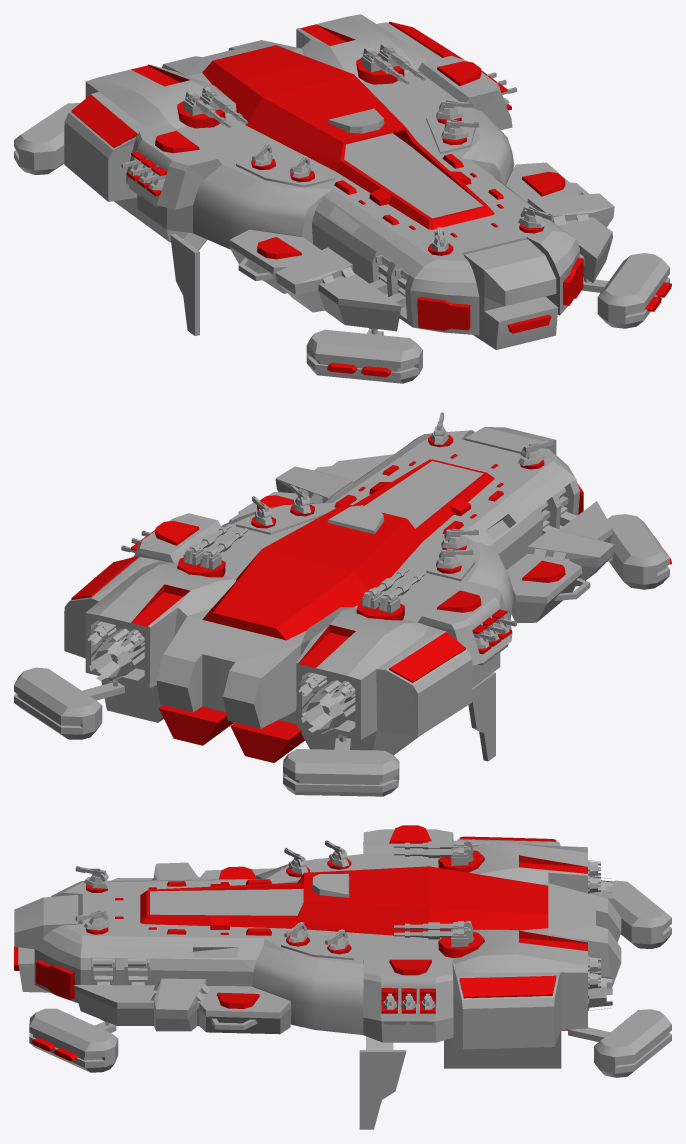
The model's file is Zaiten5.fbx.
3 renders of one model, top to bottom at view 1: azimuth 30°, elevation 25°; view 2: azimuth 150°, elevation 25°; view 3: azimuth 270°, elevation 25°, orthographic. The views are drawn at different scales.
Parts seen in each view (by area): view 1: zaiten5_diffuse, zaiten5_color; view 2: zaiten5_diffuse, zaiten5_color; view 3: zaiten5_diffuse, zaiten5_color.
Part boxes in pixels (left/top/right/bottom): zaiten5_diffuse: left=14, top=14, right=669, bottom=383; zaiten5_color: left=71, top=21, right=671, bottom=377; zaiten5_diffuse: left=14, top=412, right=669, bottom=796; zaiten5_color: left=71, top=435, right=671, bottom=762; zaiten5_diffuse: left=14, top=829, right=671, bottom=1129; zaiten5_color: left=14, top=825, right=587, bottom=1061.
Bounding box in the file's own units: 9.3 × 4.53 × 14.96.
